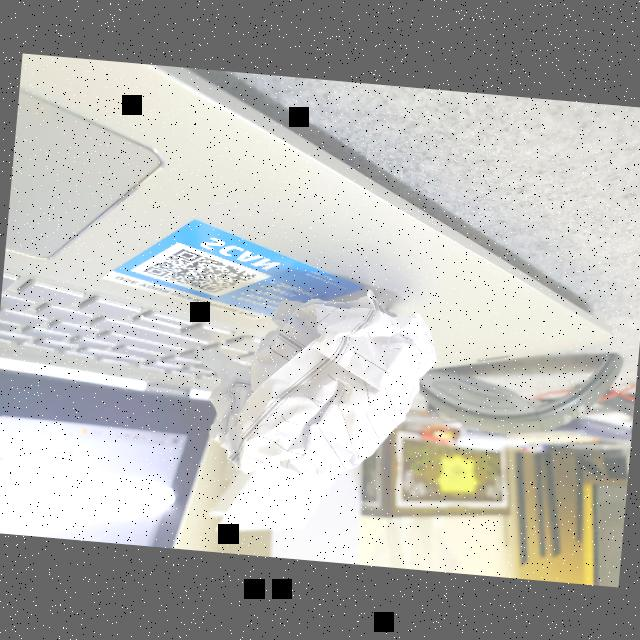scrap_paper: (190, 268, 450, 494)
